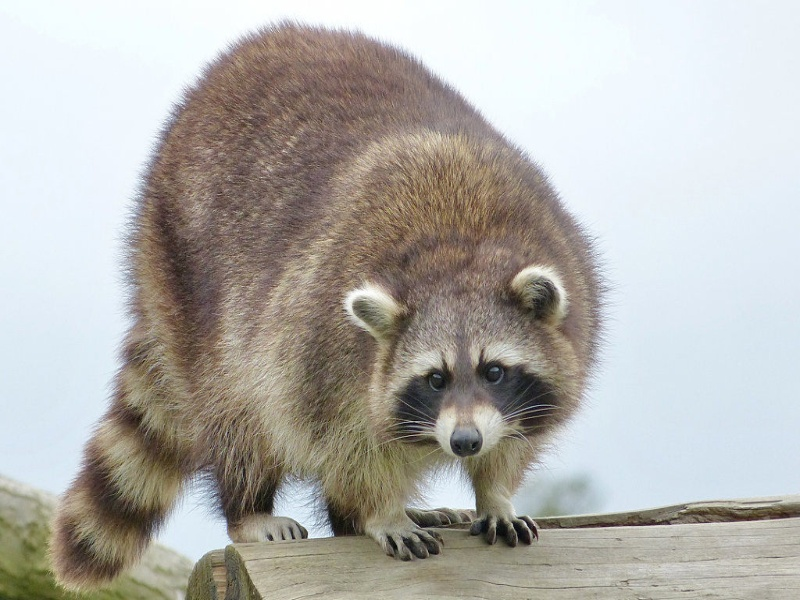raccoon: (50, 22, 610, 596)
